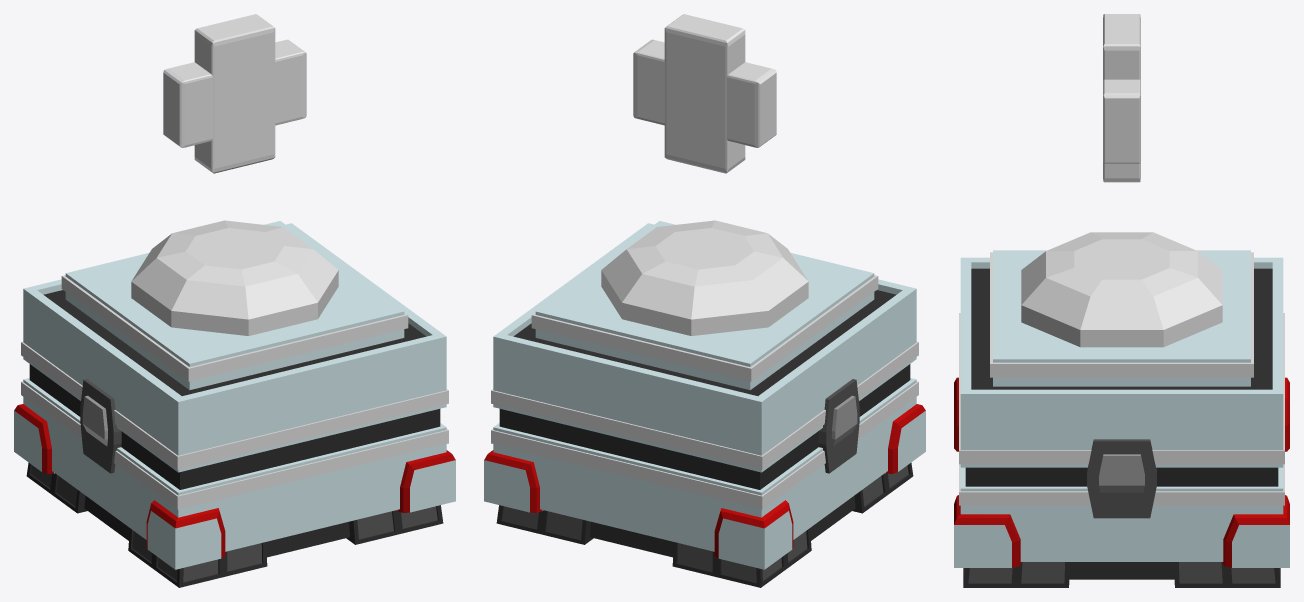
File: Health_Box.fbx
3 views of the same model, side by side, from view 1: azimuth 30°, elevation 25°; view 2: azimuth 150°, elevation 25°; view 3: azimuth 270°, elevation 25° (orthographic). The views are drawn at different scales.
Visible parts, largest first — view 1: Box, Neon.002, Health; view 2: Box, Neon.002, Health; view 3: Box, Neon.002, Health.
Part boxes in pixels (x1,y1,x2,y2): Box: [14, 221, 455, 587]; Neon.002: [21, 220, 448, 509]; Health: [163, 14, 306, 173]; Box: [484, 221, 925, 587]; Neon.002: [491, 220, 918, 509]; Health: [633, 14, 776, 173]; Box: [954, 250, 1289, 587]; Neon.002: [959, 232, 1284, 505]; Health: [1103, 14, 1140, 182].
Bounding box in the file's own units: 31.6 × 50.47 × 31.21.
